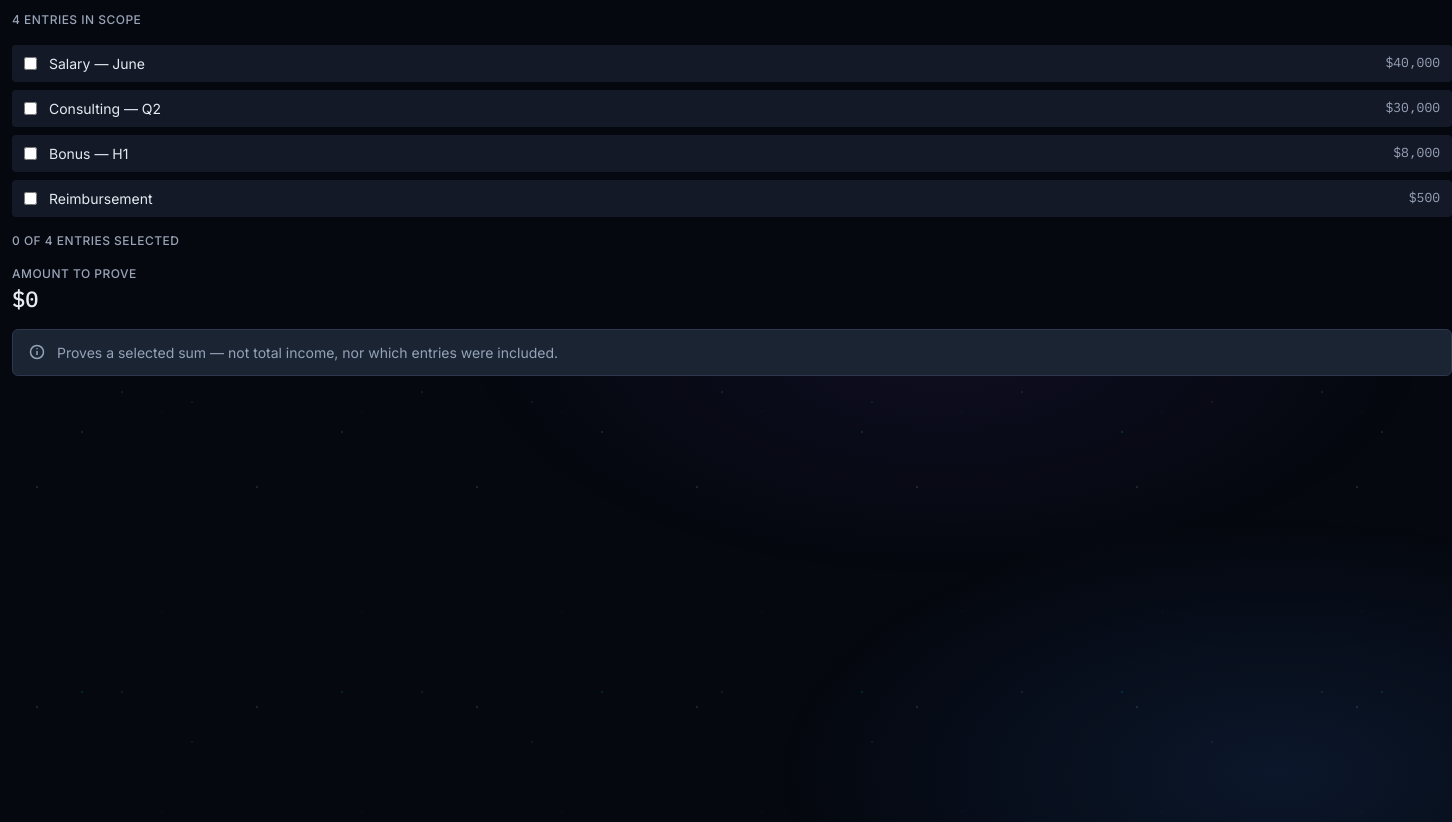
Scenario: SelectEntries — two entries within limit › selecting A then C gives sum 48000 and both remain checked
Click the checkbox labelled "Salary — June $40,000". click: [30, 63]
box: [24,57,37,70]
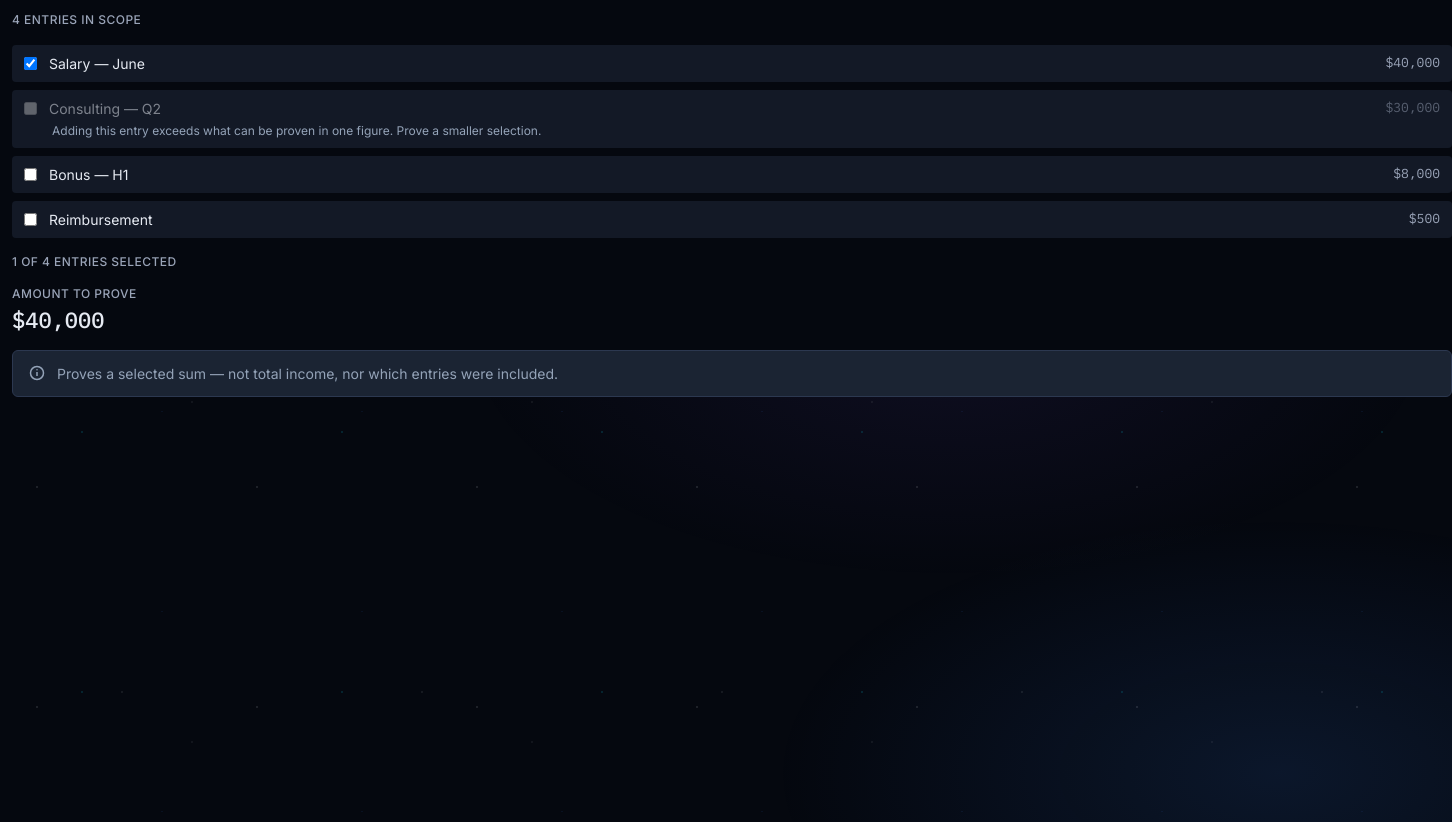
Click the checkbox labelled "Bonus — H1 $8,000". click: [30, 174]
box: [24,168,37,181]
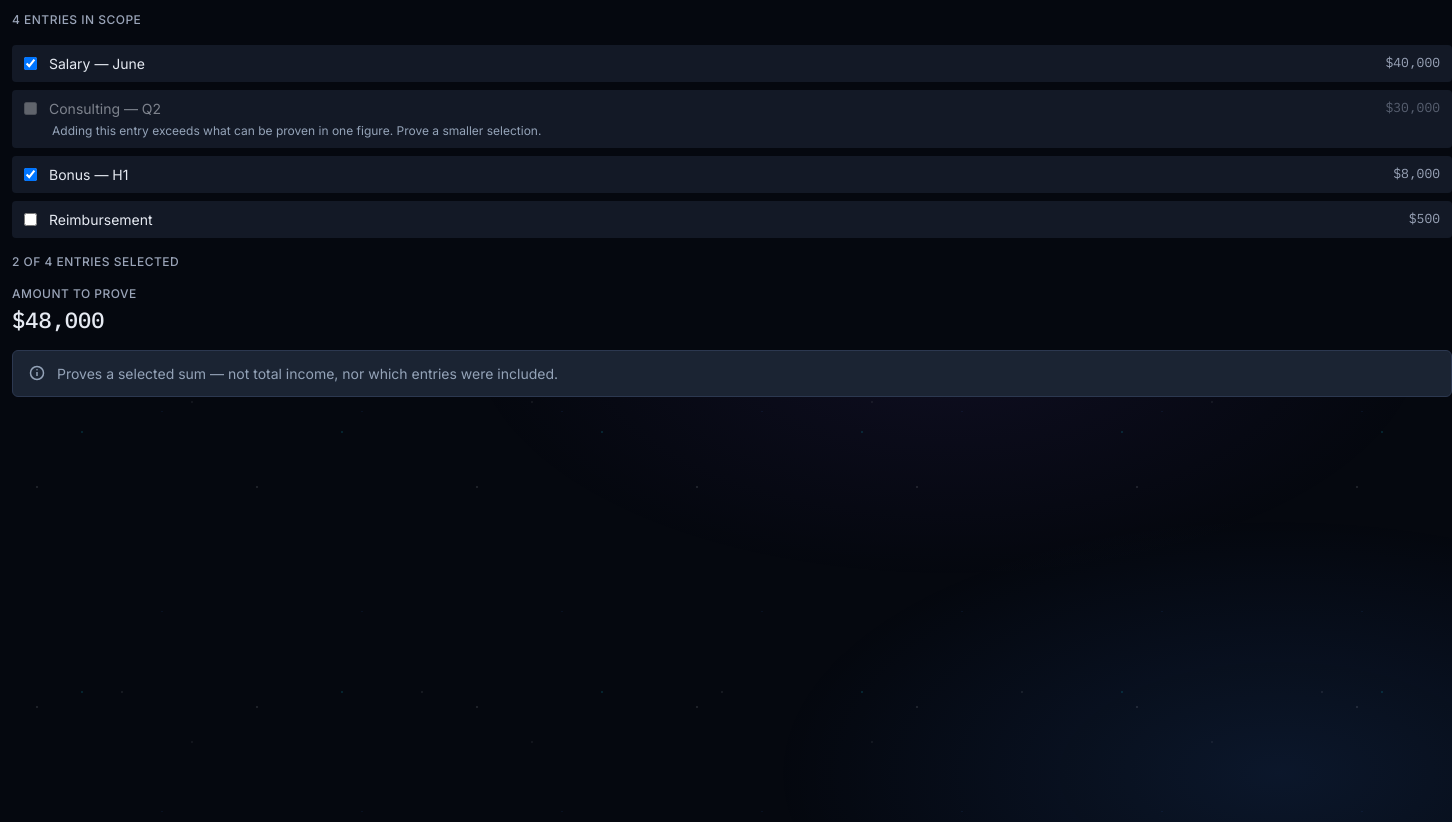
expect the checkbox labelled "Salary — June $40,000" is checked: met, box [24,57,37,70]
expect the text with test id "entry-count" reads "2 of 4 entries selected": met, box [12,254,179,270]
expect the text with test id "selected-total" shows "48,000": met, box [12,305,104,334]
